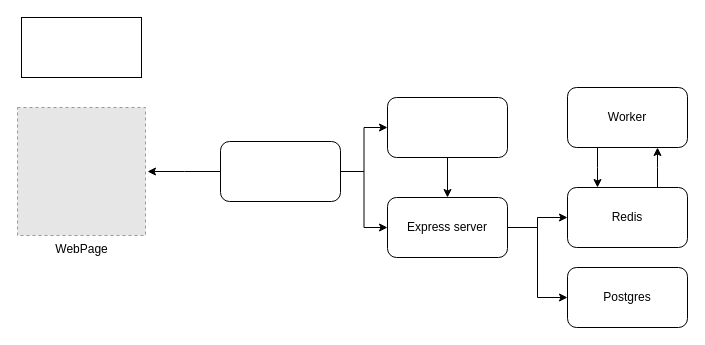
This 705x345 diagram has some shape labels left out. Grey dashed boxes stand in for pictures. Each missing label, with the box of its shape:
Nginx: (220, 140, 340, 202)
React server: (386, 96, 508, 158)
開発環境でのフローチャート: (20, 16, 142, 78)
